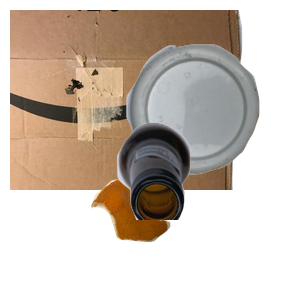cardboard: (10, 10, 245, 190)
glass: (115, 120, 300, 300)
plastic: (124, 42, 300, 210)
trash: (88, 177, 251, 300)
